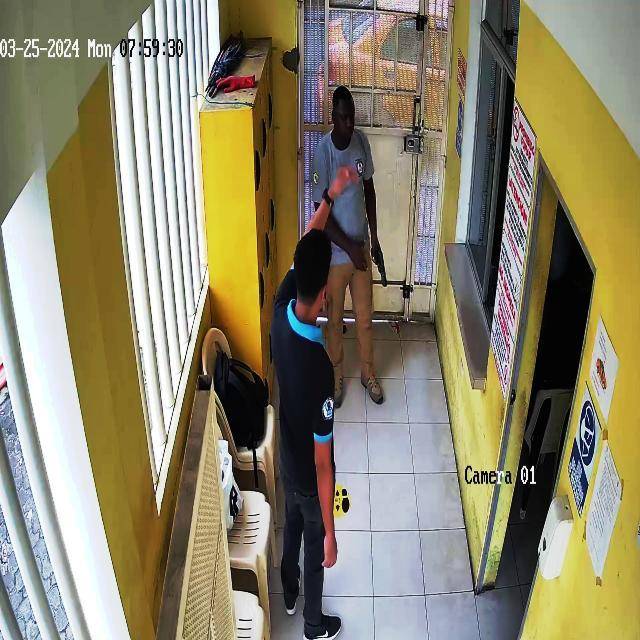Gun: (372, 240, 396, 292)
